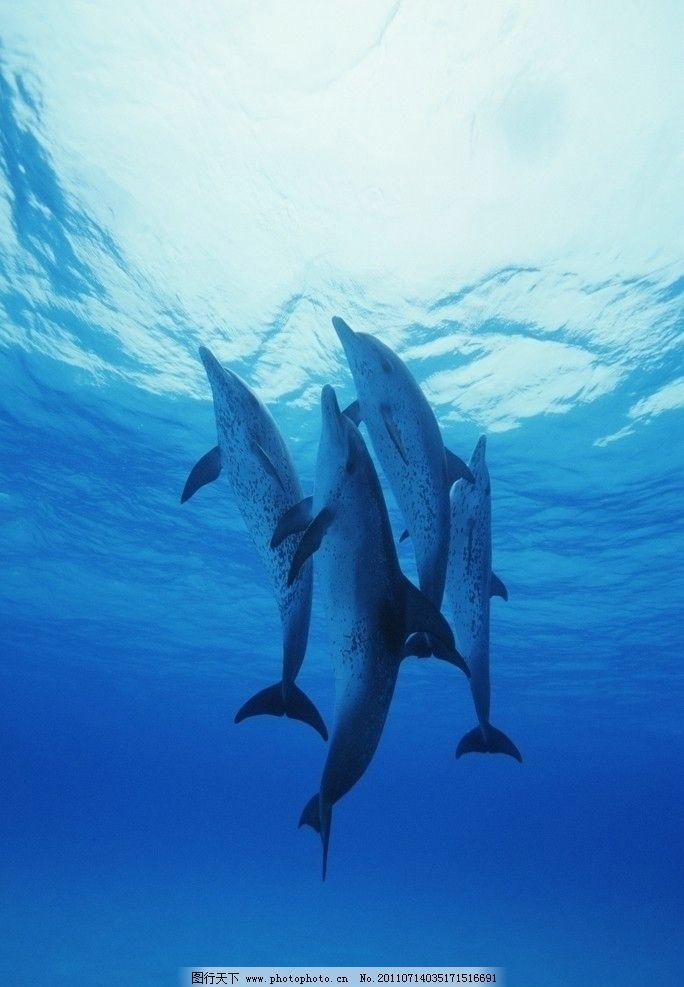fish: (270, 376, 420, 885), (179, 328, 331, 730), (327, 304, 465, 683), (456, 428, 534, 767)
